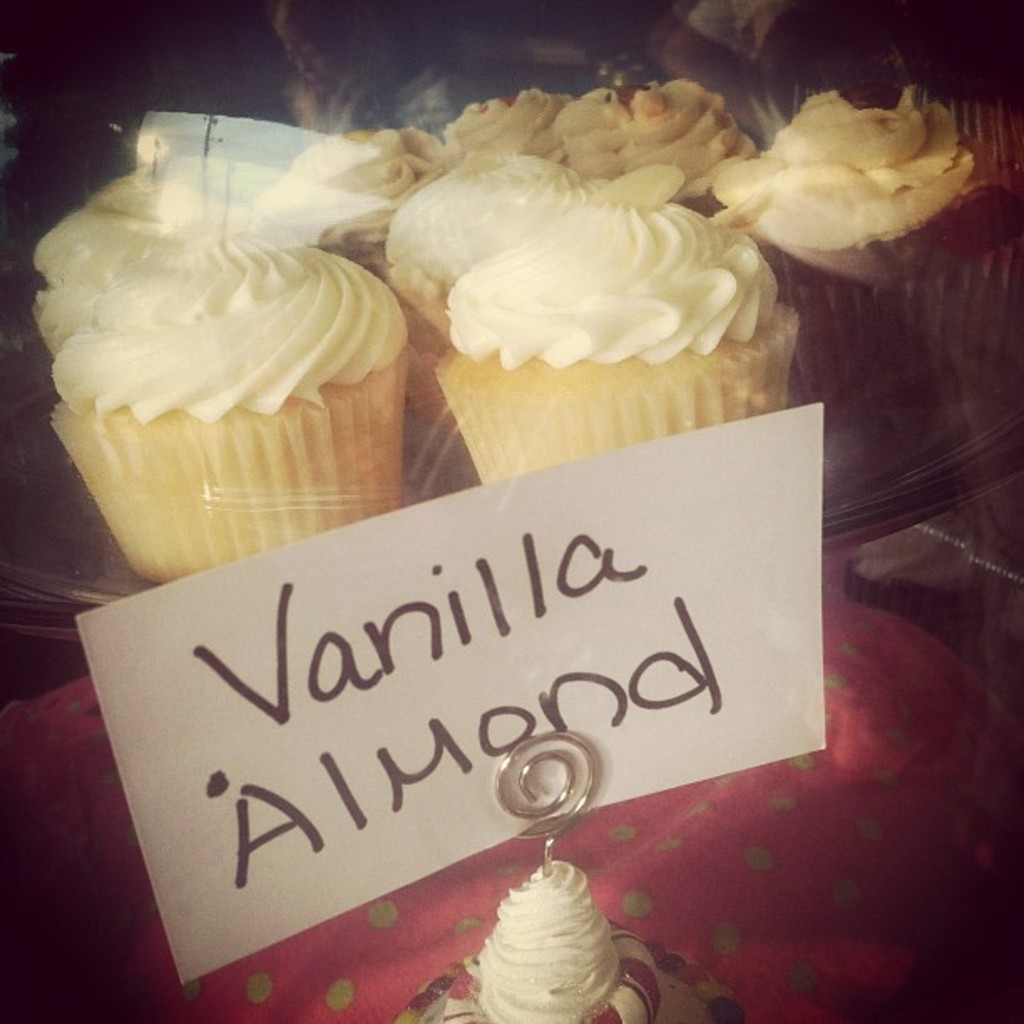cake: (50, 231, 400, 577), (432, 179, 798, 475), (711, 94, 1022, 400), (378, 146, 674, 346), (407, 853, 731, 1022)
